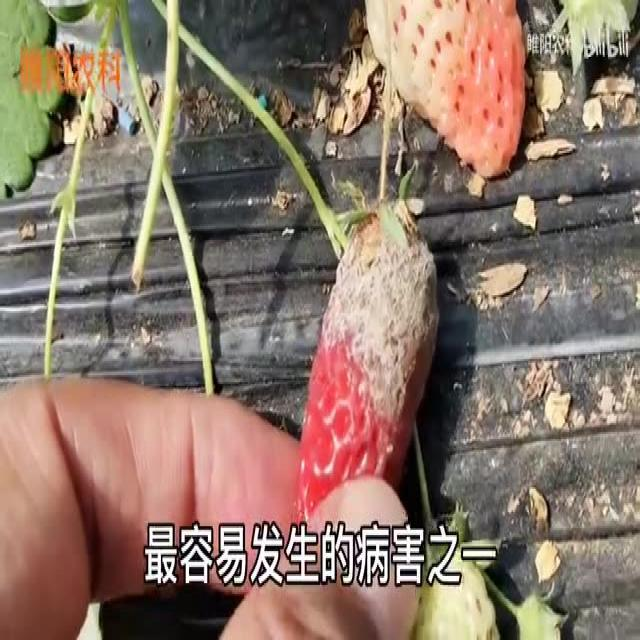Fruta sana: (365, 0, 526, 180)
Moho gris: (293, 196, 439, 554)
